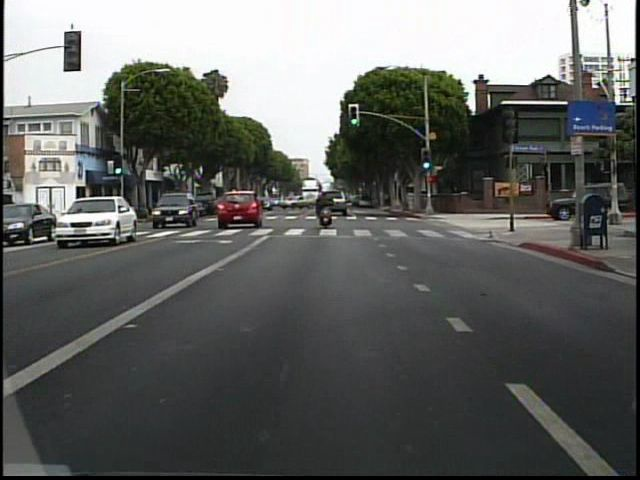person: (313, 185, 341, 233)
